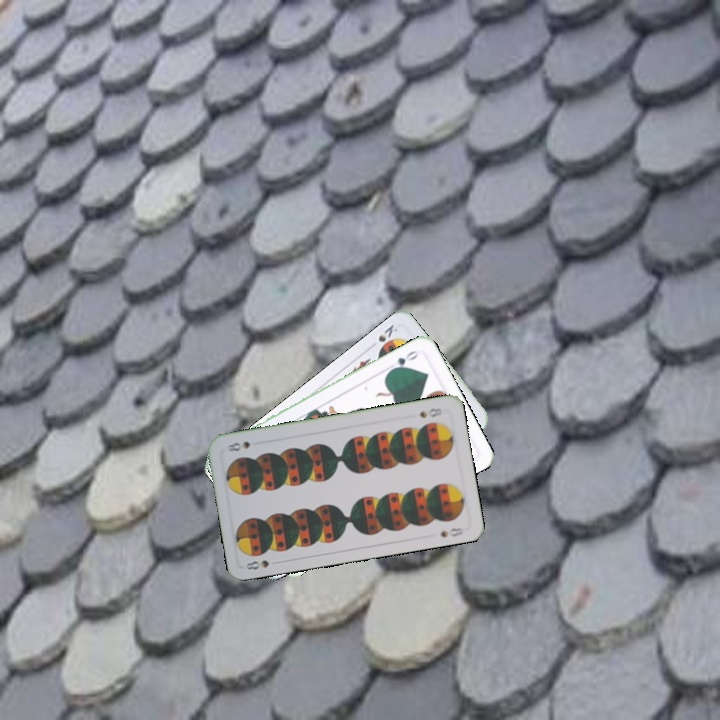GO: (386, 346, 422, 374)
S8: (242, 556, 282, 572), (415, 404, 444, 420)
SK: (374, 320, 400, 353)
